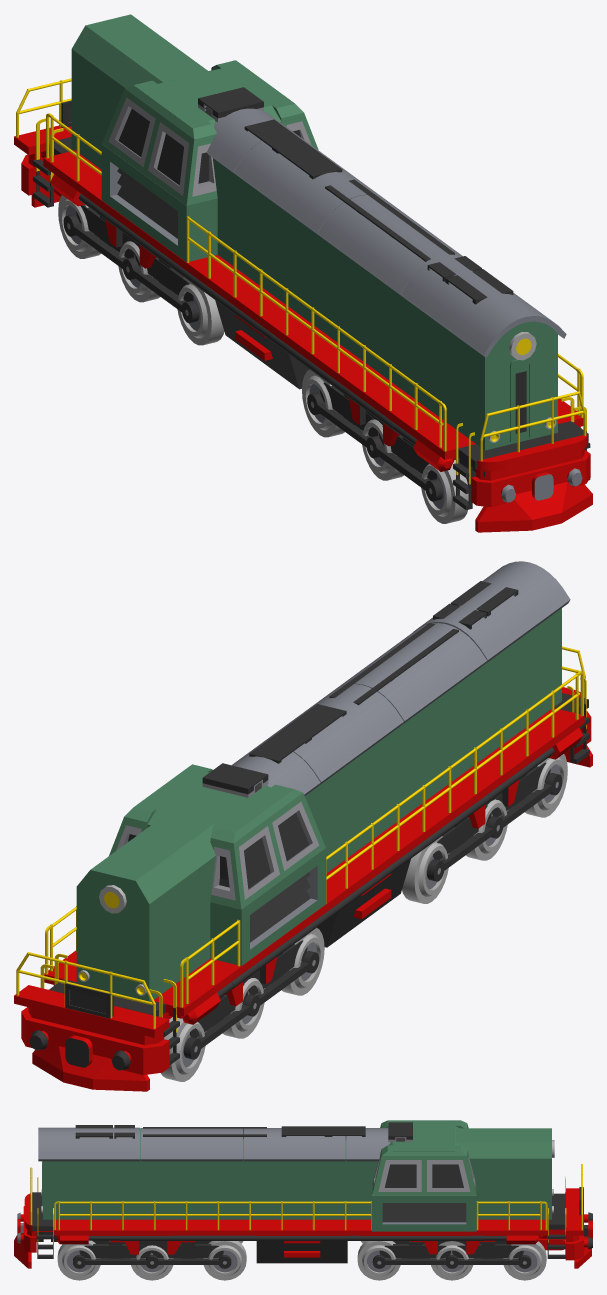
The model's file is chme3.glb.
3 views of the same model, one above another, from view 1: azimuth 30°, elevation 25°; view 2: azimuth 150°, elevation 25°; view 3: azimuth 270°, elevation 25° (orthographic). The views are drawn at different scales.
Visible parts, largest first — view 1: diesel_front_basic (×3), diesel_cabin_square (×4), block (×3), body_vent (×4), diesel_cabin_front_window (×2), wheel_medium (×6), attachment_barrelThin (×3), bogie_frame_connection (×4), coupling_large, detail_scoop, bogie_beam (×4), fuel_large (+4 smaller); view 2: diesel_front_basic (×3), diesel_cabin_square (×4), block (×2), body_vent (×5), diesel_cabin_front_window (×2), wheel_medium (×6), coupling_large, attachment_barrelThin (×3), bogie_frame_connection (×4), bogie_beam (×5), detail_scoop, fuel_large (+1 smaller); view 3: diesel_front_basic (×3), diesel_cabin_square (×4), block (×4), wheel_medium (×6), body_vent (×4), diesel_cabin_front_window, bogie_beam (×5), attachment_barrelThin (×3), bogie_frame_connection (×4), fuel_large, coupling_large (×2), bogie_frame (×2) (+4 smaller).
Boxes of the visible parts, <box> form: diesel_front_basic (×3): <box>71,14,557,450</box>; diesel_cabin_square (×4): <box>207,108,566,406</box>; block (×3): <box>14,125,588,469</box>; body_vent (×4): <box>101,119,513,304</box>; diesel_cabin_front_window (×2): <box>102,60,318,205</box>; wheel_medium (×6): <box>58,195,468,523</box>; attachment_barrelThin (×3): <box>96,207,443,430</box>; bogie_frame_connection (×4): <box>63,214,442,501</box>; coupling_large: <box>471,448,590,507</box>; detail_scoop: <box>475,482,592,532</box>; bogie_beam (×4): <box>76,205,475,484</box>; fuel_large: <box>215,300,309,389</box>; diesel_front_basic (×3): <box>76,608,561,1001</box>; diesel_cabin_square (×4): <box>232,561,570,795</box>; block (×2): <box>14,708,584,1037</box>; body_vent (×5): <box>65,581,518,1018</box>; diesel_cabin_front_window (×2): <box>109,764,325,909</box>; wheel_medium (×6): <box>161,754,567,1081</box>; coupling_large: <box>21,1007,169,1075</box>; attachment_barrelThin (×3): <box>231,672,580,988</box>; bogie_frame_connection (×4): <box>183,773,562,1059</box>; bogie_beam (×5): <box>49,762,550,1041</box>; detail_scoop: <box>32,1046,149,1091</box>; fuel_large: <box>317,859,410,947</box>; diesel_front_basic (×3): <box>43,1120,551,1219</box>; diesel_cabin_square (×4): <box>38,1127,390,1161</box>; block (×4): <box>32,1188,583,1235</box>; wheel_medium (×6): <box>57,1240,546,1280</box>; body_vent (×4): <box>75,1125,476,1231</box>; diesel_cabin_front_window: <box>372,1145,476,1195</box>; bogie_beam (×5): <box>79,1229,565,1258</box>; attachment_barrelThin (×3): <box>59,1201,484,1240</box>; bogie_frame_connection (×4): <box>73,1240,531,1268</box>; fuel_large: <box>256,1235,347,1263</box>; coupling_large (×2): <box>17,1206,592,1260</box>; bogie_frame (×2): <box>110,1240,494,1254</box>.
Bounding box in the file's own units: 2.92 × 4.16 × 16.33.
